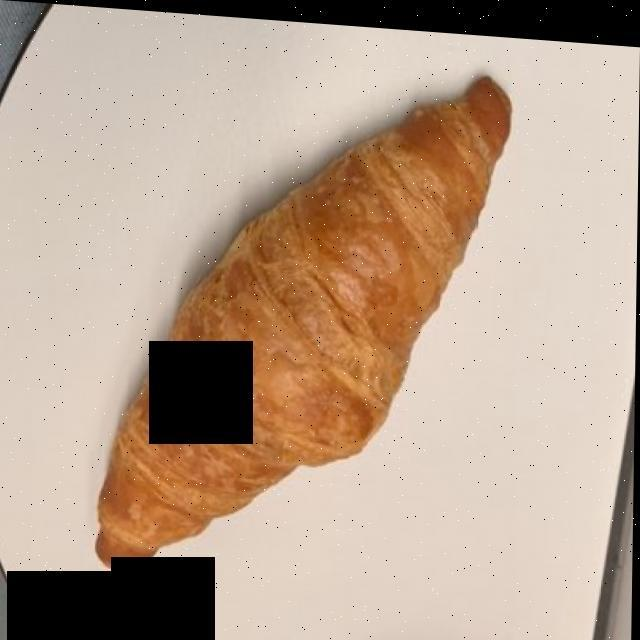croissant: (96, 84, 508, 566)
